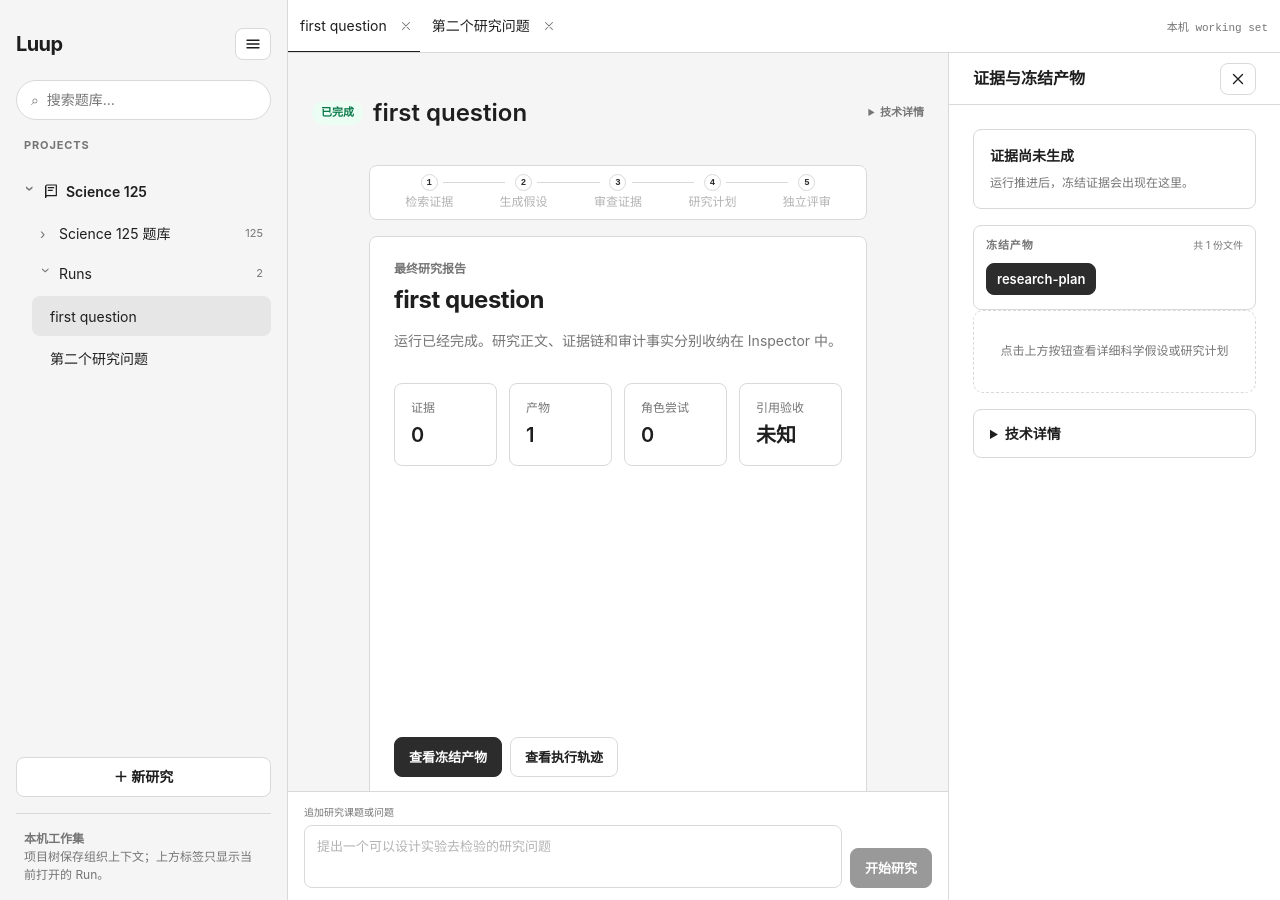
Home shell flows › 宽屏自动打开 artifacts inspector；新研究回到 Welcome
Expected: the element with test id "workspace-inspector" is shown, 948,53 -> 1279,899
Click the button "＋ 新研究". click: coordinates (144, 777)
box: 16,757 -> 271,797
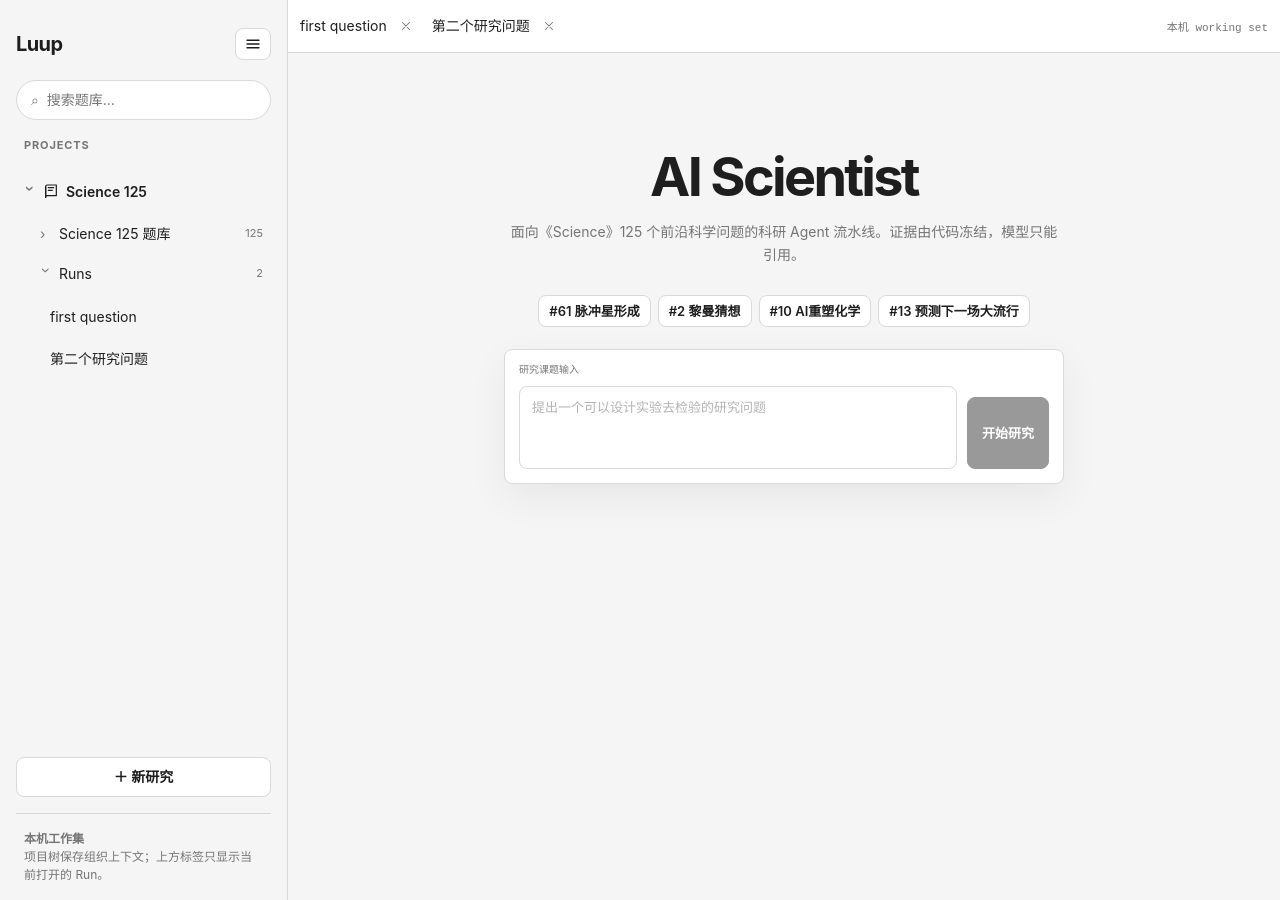
Result: the element with test id "welcome-panel" is shown at 504,77 -> 1064,556
Result: the element with test id "workspace-inspector" is gone
